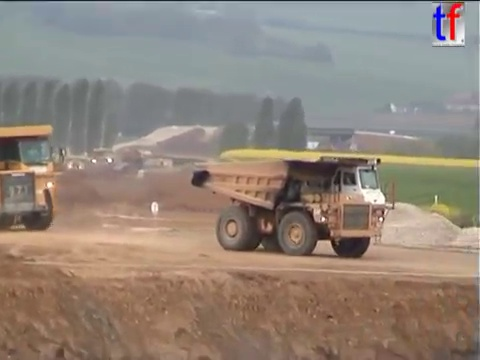truck: (189, 153, 397, 259), (1, 122, 67, 233), (91, 146, 115, 170), (66, 154, 86, 174)
